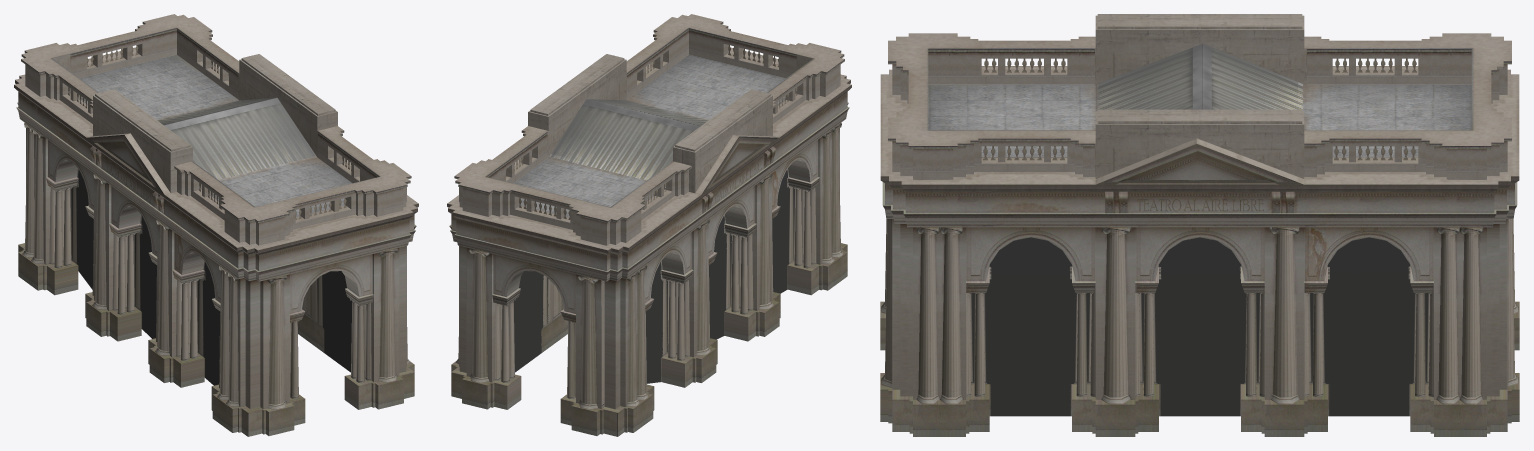
File: anfiteatro.fbx
The picture shows the model from 3 angles, left to right: view 1: azimuth 30°, elevation 25°; view 2: azimuth 150°, elevation 25°; view 3: azimuth 270°, elevation 25°; orthographic projection. The views are drawn at different scales.
Visible parts, largest first — view 1: Model; view 2: Model; view 3: Model.
Boxes of the visible parts, x1,y1,x2,y2 form: Model: [14, 14, 418, 436]; Model: [447, 14, 851, 436]; Model: [880, 14, 1519, 436].
Size of the model in its own units: 7.18 by 8.69 by 16.3.
